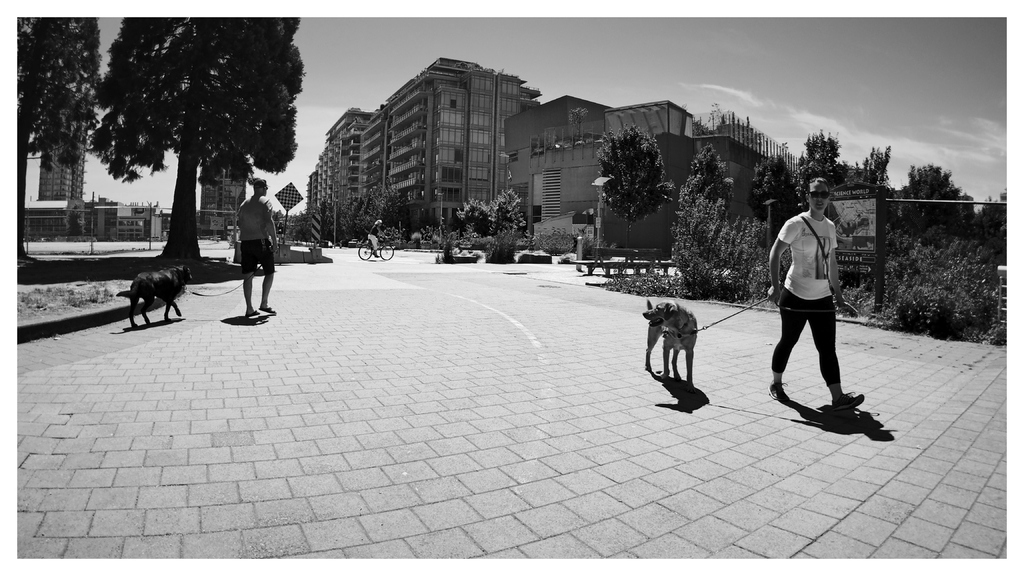Footwear: (835, 389, 861, 412), (767, 382, 788, 399), (241, 309, 263, 322), (260, 301, 275, 313)
